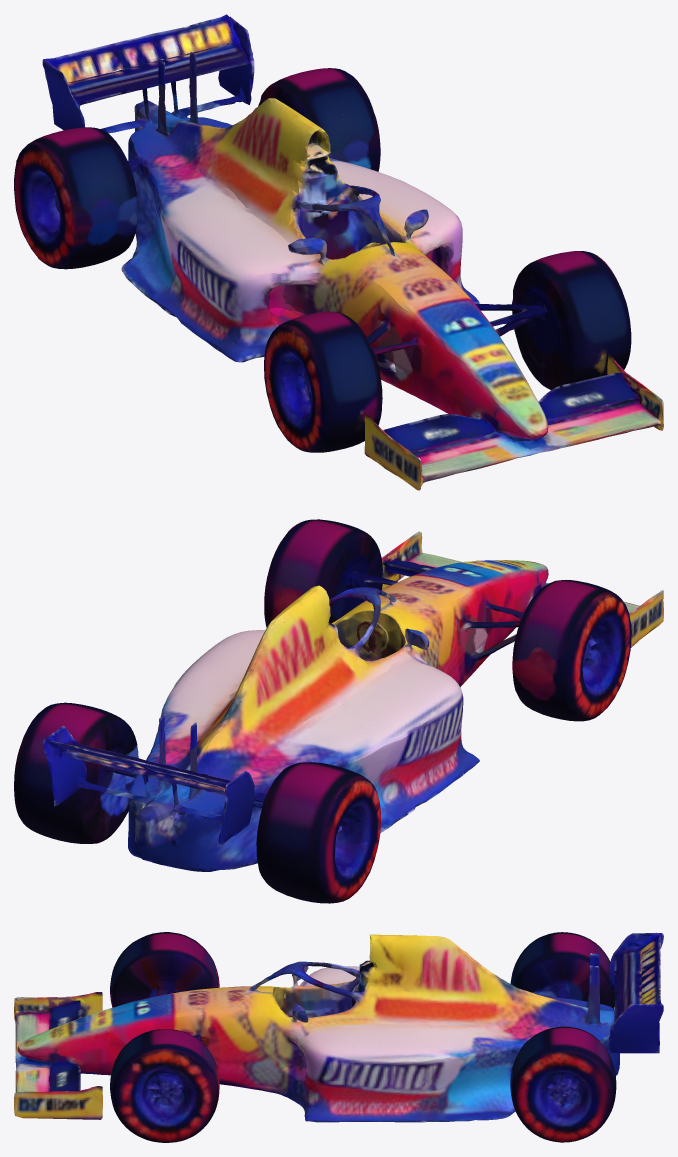
Rendered from indycar3.glb.
3 renders of one model, top to bottom at view 1: azimuth 30°, elevation 25°; view 2: azimuth 150°, elevation 25°; view 3: azimuth 270°, elevation 25°, orthographic. The views are drawn at different scales.
Visible parts, largest first — view 1: panel_bumper_f, panel_trunk, body, panel_hood, susp_rear_L, susp_front_L, panel_bumper_r, panel_roof, susp_front_R, wheel_front_L, panel_door_L, susp_rear_R (+2 smaller); view 2: panel_trunk, panel_bumper_r, panel_hood, body, panel_bumper_f, susp_front_L, susp_rear_L, panel_door_L, susp_rear_R, panel_roof, wheel_front_L, susp_front_R (+3 smaller); view 3: panel_trunk, panel_bumper_f, body, panel_hood, panel_door_R, panel_bumper_r, wheel_rear_R, panel_roof, susp_front_R, susp_rear_R, wheel_front_L, wheel_rear_L (+3 smaller).
Boxes of the visible parts, left/top/right/bottom form: panel_bumper_f: left=282, top=269, right=657, bottom=479; panel_trunk: left=27, top=14, right=383, bottom=292; body: left=179, top=175, right=455, bottom=323; panel_hood: left=277, top=236, right=621, bottom=373; susp_rear_L: left=14, top=143, right=213, bottom=347; susp_front_L: left=205, top=272, right=480, bottom=490; panel_bumper_r: left=16, top=67, right=378, bottom=262; panel_roof: left=252, top=100, right=428, bottom=253; susp_front_R: left=426, top=231, right=663, bottom=440; wheel_front_L: left=282, top=344, right=382, bottom=449; panel_door_L: left=170, top=223, right=253, bottom=351; susp_rear_R: left=258, top=83, right=478, bottom=301; panel_trunk: left=25, top=615, right=394, bottom=826; panel_bumper_r: left=27, top=713, right=374, bottom=871; panel_hood: left=273, top=519, right=615, bottom=687; body: left=187, top=605, right=454, bottom=734; panel_bumper_f: left=267, top=539, right=639, bottom=684; susp_front_L: left=451, top=590, right=663, bottom=781; susp_rear_L: left=265, top=777, right=459, bottom=903; panel_door_L: left=380, top=678, right=471, bottom=804; susp_rear_R: left=24, top=721, right=138, bottom=843; panel_roof: left=277, top=585, right=428, bottom=691; wheel_front_L: left=513, top=591, right=627, bottom=703; susp_front_R: left=264, top=531, right=422, bottom=627; panel_trunk: left=421, top=932, right=663, bottom=1121; panel_bumper_f: left=15, top=952, right=213, bottom=1142; body: left=254, top=968, right=434, bottom=1101; panel_hood: left=122, top=932, right=269, bottom=1118; panel_door_R: left=311, top=1045, right=435, bottom=1117; panel_bumper_r: left=474, top=951, right=659, bottom=1099; wheel_rear_R: left=515, top=1052, right=615, bottom=1141; panel_roof: left=257, top=934, right=437, bottom=1021; susp_front_R: left=14, top=1042, right=340, bottom=1142; susp_rear_R: left=305, top=1039, right=616, bottom=1142; wheel_front_L: left=110, top=947, right=219, bottom=1007; wheel_rear_L: left=518, top=958, right=614, bottom=1008.
Bounding box in the file's own units: 1.77 × 1.03 × 4.
1 material, 1 textured.
